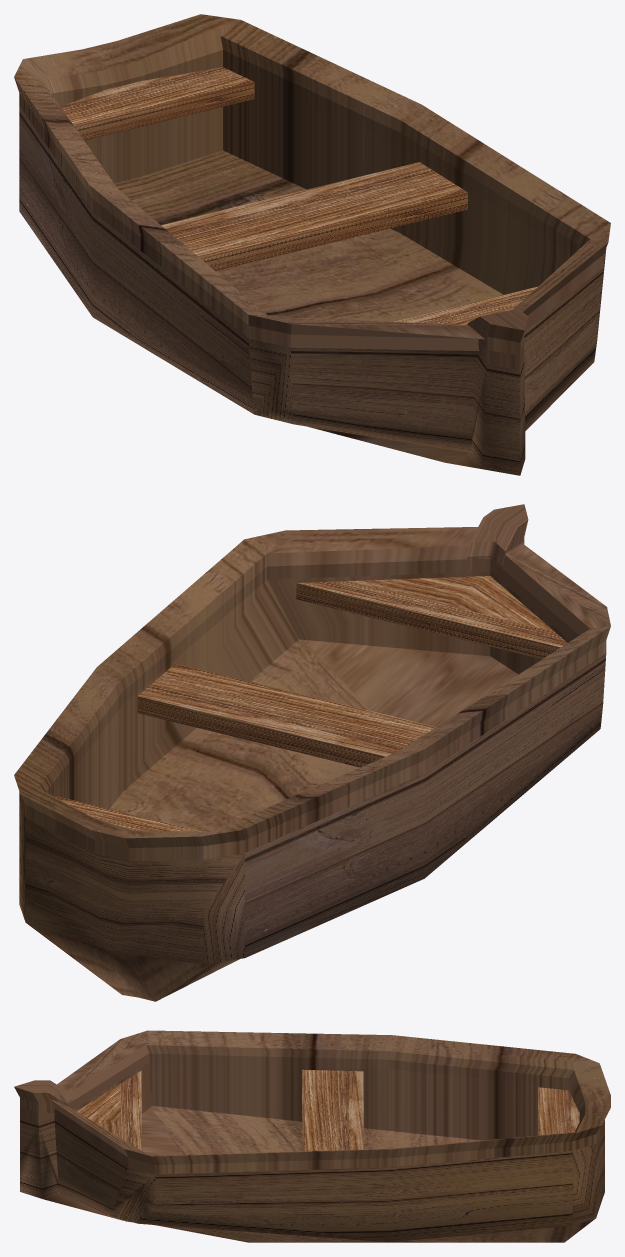
The model's file is Rowboat.fbx.
3 views of the same model, one above another, from view 1: azimuth 30°, elevation 25°; view 2: azimuth 150°, elevation 25°; view 3: azimuth 270°, elevation 25° (orthographic). The views are drawn at different scales.
Parts seen in each view (by area): view 1: pCube1, pCube4, pCube2, pCube3; view 2: pCube1, pCube4, pCube3, pCube2; view 3: pCube1, pCube4, pCube3, pCube2.
Part boxes in pixels (left/top/right/bottom): pCube1: left=14, top=14, right=610, bottom=475; pCube4: left=161, top=162, right=467, bottom=270; pCube2: left=61, top=67, right=254, bottom=140; pCube3: left=394, top=286, right=537, bottom=325; pCube1: left=14, top=504, right=610, bottom=1001; pCube4: left=137, top=663, right=436, bottom=767; pCube3: left=296, top=576, right=567, bottom=659; pCube2: left=55, top=796, right=201, bottom=831; pCube1: left=14, top=1030, right=610, bottom=1242; pCube4: left=302, top=1069, right=363, bottom=1151; pCube3: left=76, top=1070, right=141, bottom=1150; pCube2: left=538, top=1087, right=579, bottom=1135.
Bounding box in the file's own units: 2.54 × 1.41 × 5.08.
Materials: 4 (4 with a texture image).
